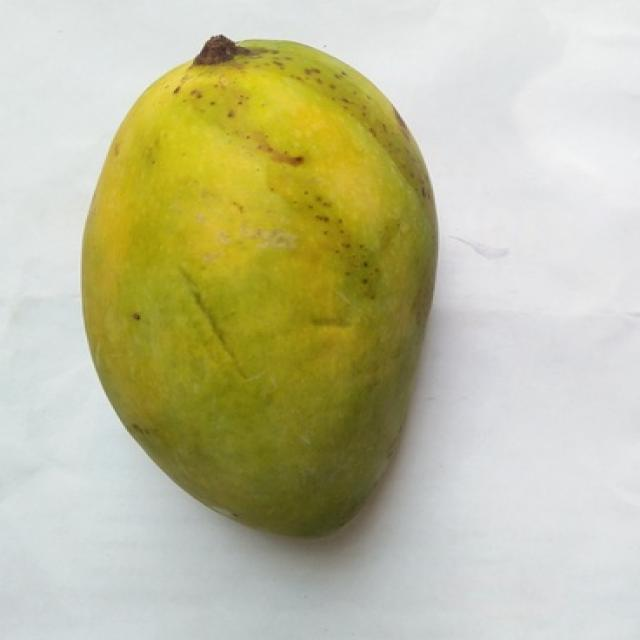Mango: (82, 38, 431, 535)
